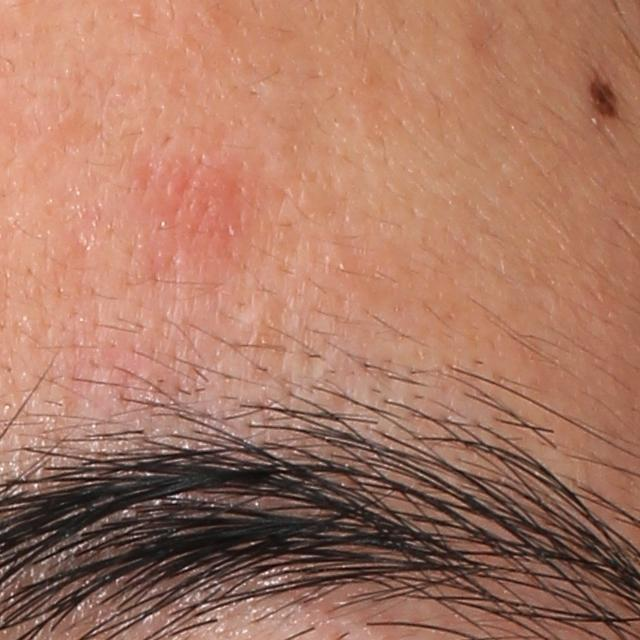nevus: (586, 70, 627, 118)
